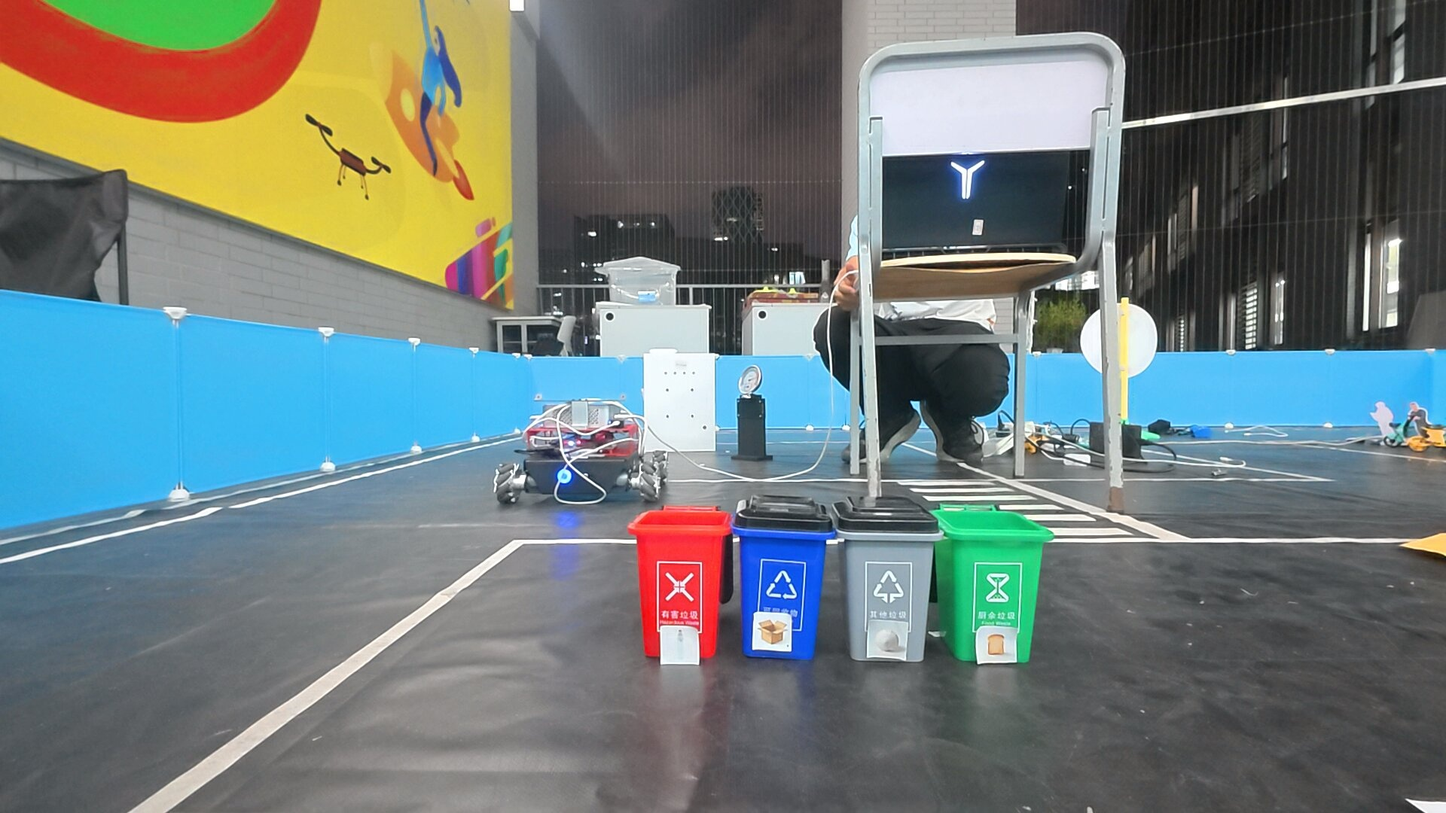food_trash: (981, 626, 1013, 661)
hazardous_trash: (662, 626, 697, 659)
other_trash: (870, 622, 904, 657)
recyclable_trash: (756, 613, 786, 649)
